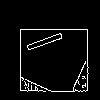I: (25, 26, 73, 54)
